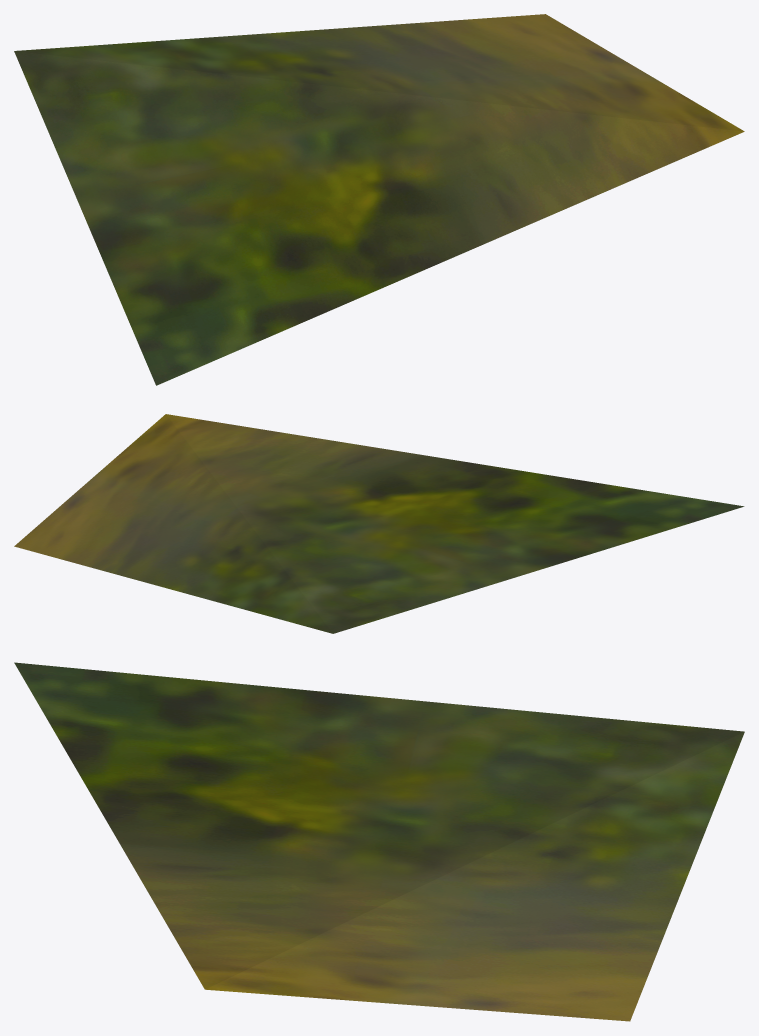
Rendered from Ridge_2_2_Top.gltf.
3 renders of one model, top to bottom at view 1: azimuth 30°, elevation 25°; view 2: azimuth 150°, elevation 25°; view 3: azimuth 270°, elevation 25°, orthographic. The views are drawn at different scales.
Visible parts, largest first — view 1: Ridge_2_2_Top; view 2: Ridge_2_2_Top; view 3: Ridge_2_2_Top.
Part boxes in pixels (left/top/right/bottom): Ridge_2_2_Top: left=14, top=14, right=744, bottom=385; Ridge_2_2_Top: left=14, top=414, right=744, bottom=633; Ridge_2_2_Top: left=14, top=662, right=744, bottom=1021.
Bounding box in the file's own units: 14.93 × 0.8401 × 13.1.
Materials: 1 (1 with a texture image).
